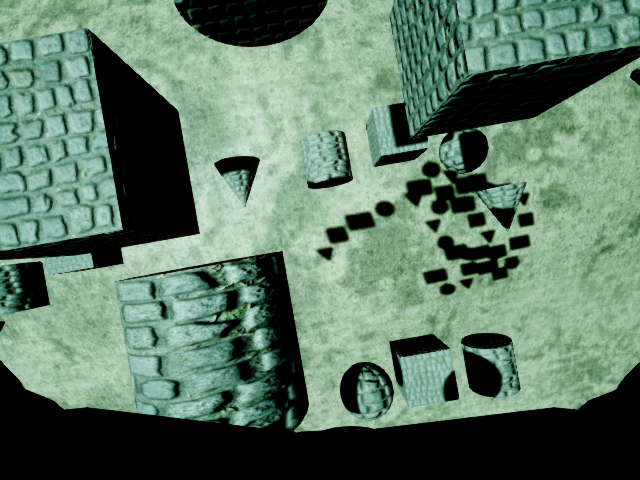box: (384, 323, 464, 409)
cone: (203, 143, 268, 204), (475, 174, 535, 238)
cylinder: (93, 256, 317, 447), (461, 319, 530, 404), (291, 124, 358, 193)
sphere: (333, 356, 399, 420), (427, 124, 494, 176)
